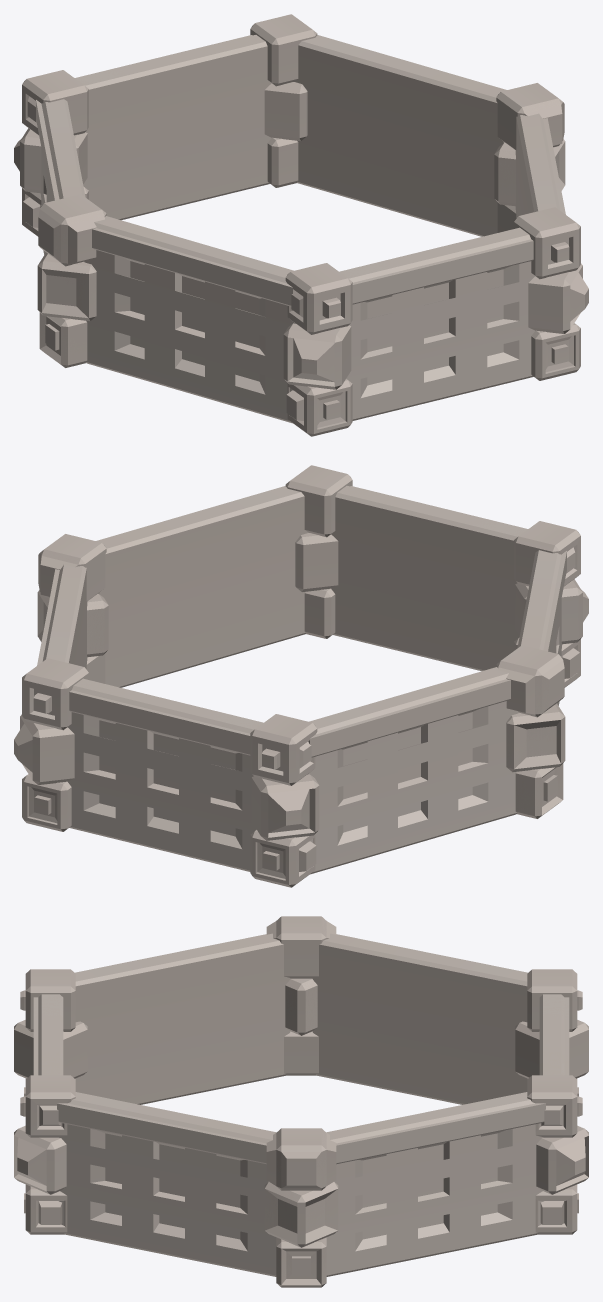
Rendered from retaining_wall_1.glb.
3 views of the same model, one above another, from view 1: azimuth 30°, elevation 25°; view 2: azimuth 150°, elevation 25°; view 3: azimuth 270°, elevation 25° (orthographic). The views are drawn at different scales.
Visible parts, largest first — view 1: Wall, Collumn; view 2: Wall, Collumn; view 3: Wall, Collumn.
Part boxes in pixels (x1,y1,x2,y2): Wall: [36, 35, 565, 423]; Collumn: [14, 14, 588, 436]; Wall: [37, 486, 566, 874]; Collumn: [14, 465, 588, 887]; Wall: [33, 933, 569, 1276]; Collumn: [14, 916, 588, 1287].
Bounding box in the file's own units: 4.59 × 1.25 × 4.59.
Materials: 1 (1 with a texture image).
